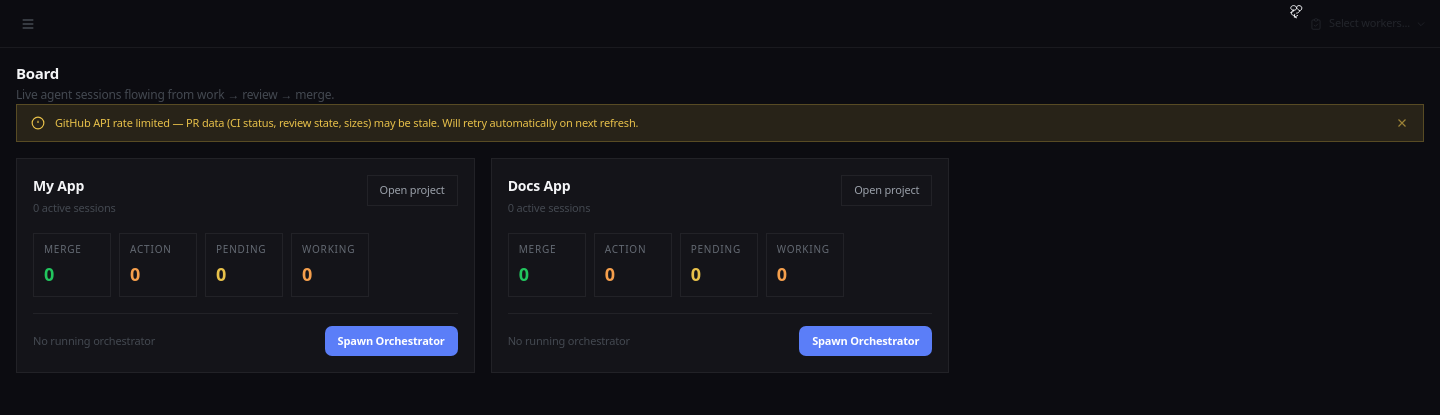
Dashboard project overview cards › shows the API error when spawning fails
Click the button "Spawn Orchestrator" below "Docs App": {"x": 866, "y": 341} [799,326,932,356]
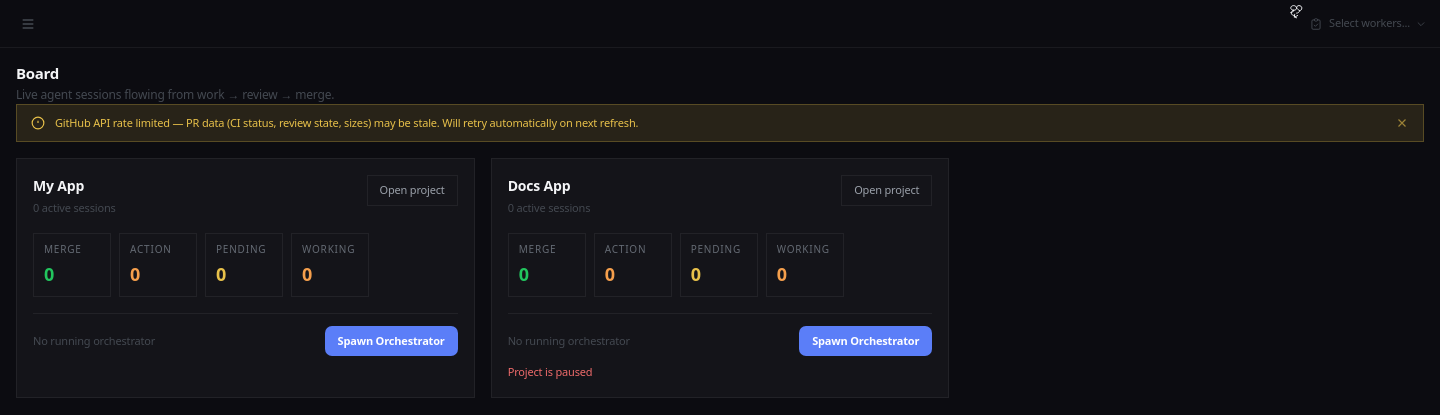
Expected: the number of buttons "Spawn Orchestrator" is 2, [324,326,458,356]; [799,326,932,356]
Expected: the text "Project is paused" is shown, [508,364,592,379]
